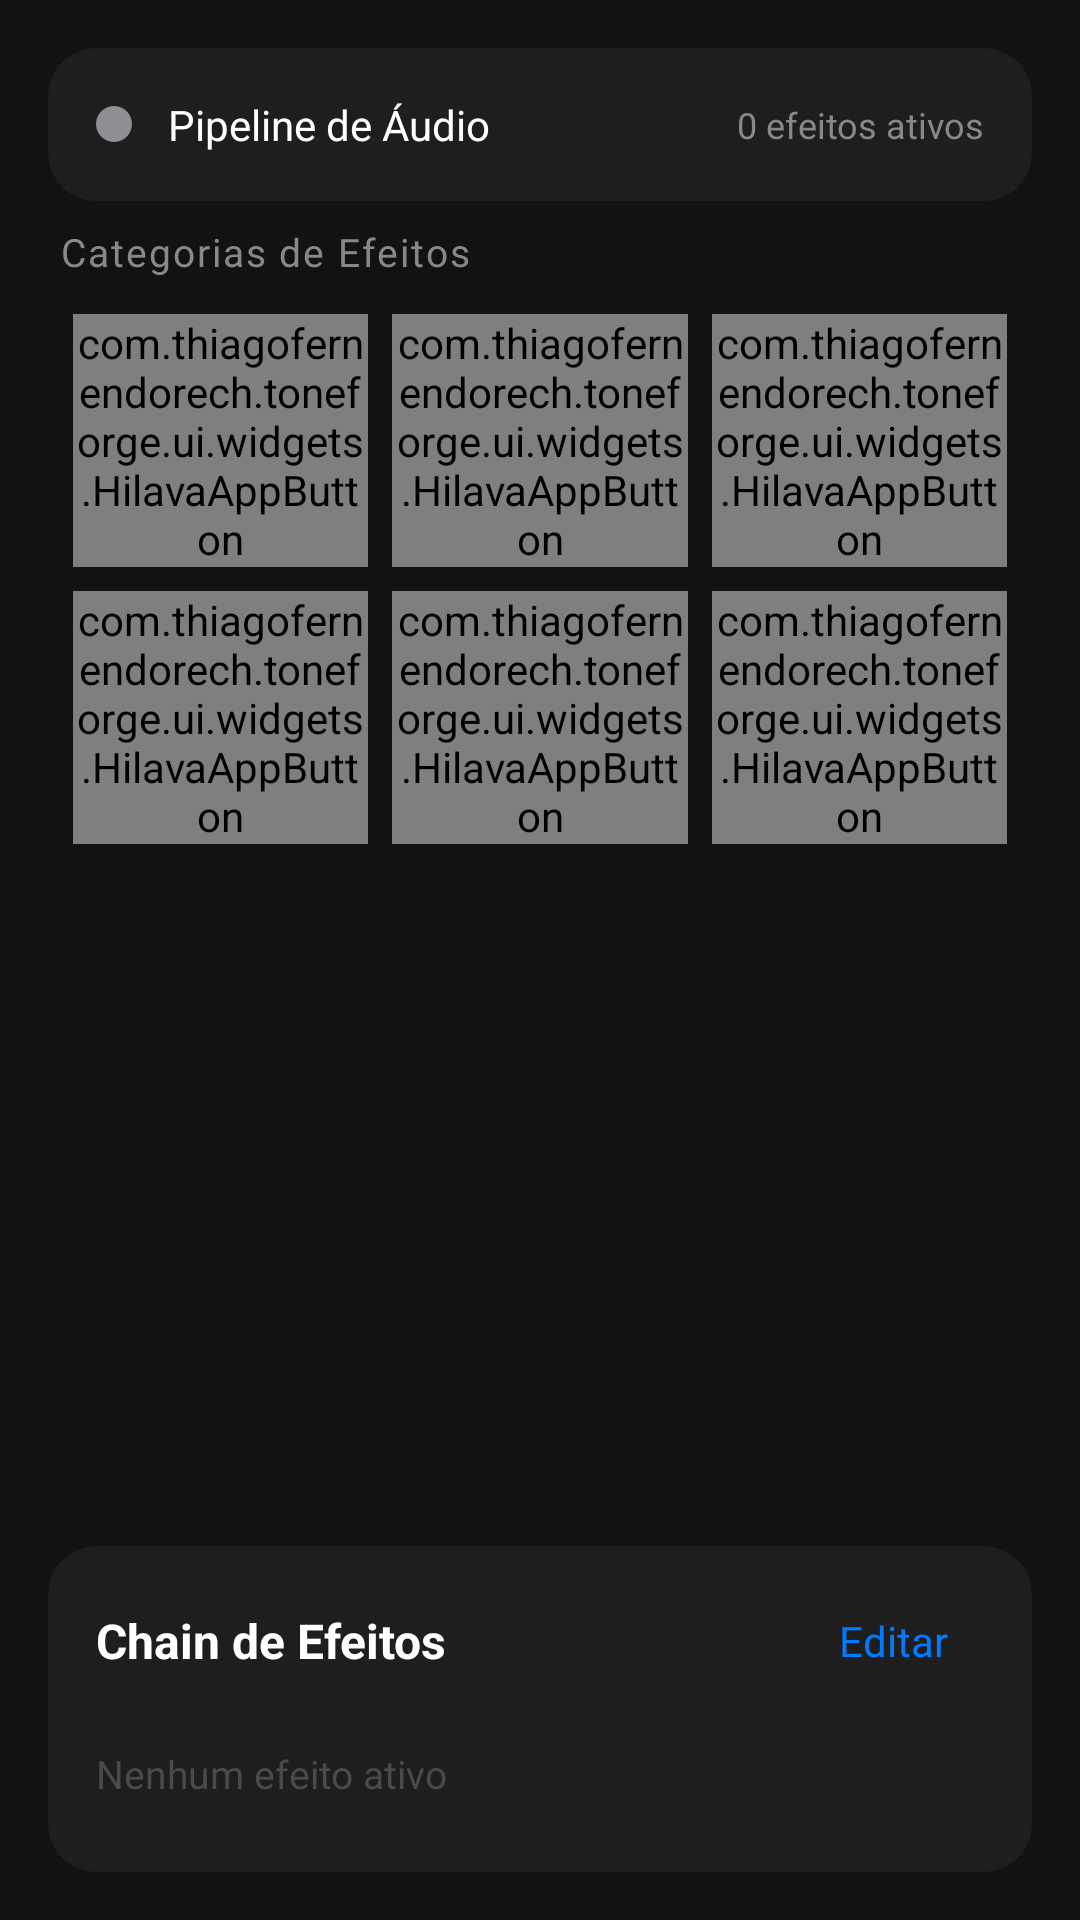

Screen size 1080px×1920px. Icon name, then its box in pixels as (x1, y1, x2, y2):
hilava status dot: (96, 106, 132, 142)
